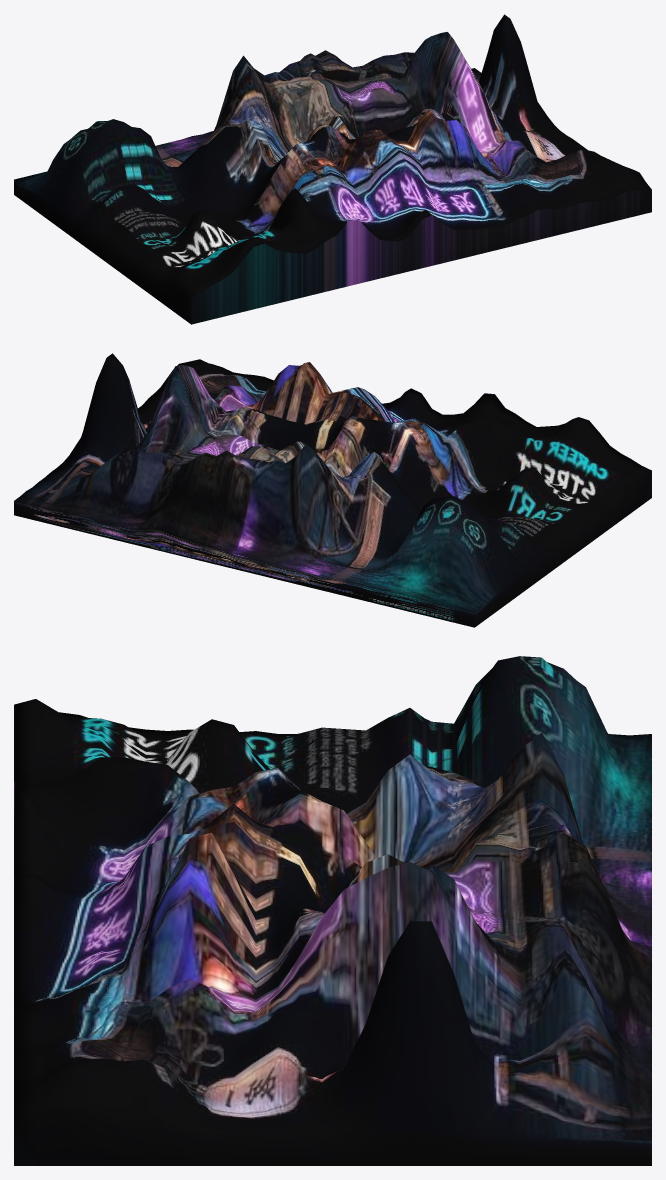
Rendered from CAREER_01_Tool_01_Cart.glb.
3 renders of one model, top to bottom at view 1: azimuth 30°, elevation 25°; view 2: azimuth 150°, elevation 25°; view 3: azimuth 270°, elevation 25°, orthographic. The views are drawn at different scales.
Visible parts, largest first — view 1: CAREER_01_Tool_01_Cart; view 2: CAREER_01_Tool_01_Cart; view 3: CAREER_01_Tool_01_Cart.
Boxes of the visible parts, left/top/right/bottom form: CAREER_01_Tool_01_Cart: left=14, top=14, right=651, bottom=324; CAREER_01_Tool_01_Cart: left=14, top=353, right=651, bottom=627; CAREER_01_Tool_01_Cart: left=14, top=656, right=651, bottom=1165.
Bounding box in the file's own units: 2 × 0.51 × 1.33.
Materials: 1 (1 with a texture image).
